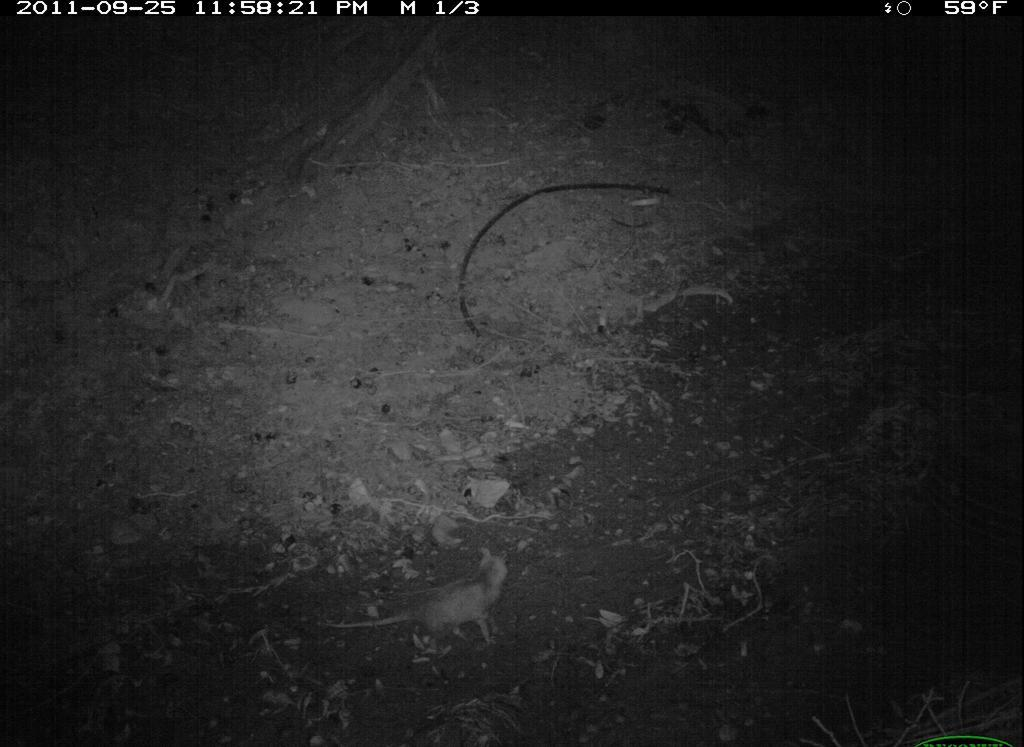opossum: (312, 541, 551, 660)
